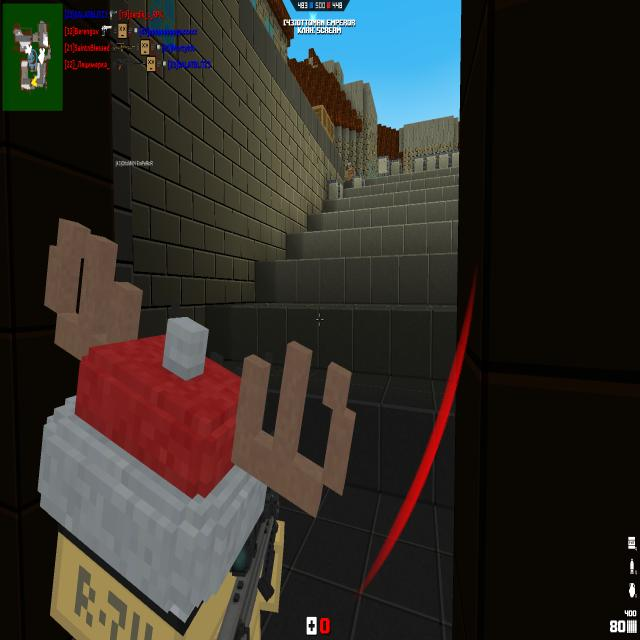player: (34, 226, 284, 633), (346, 162, 354, 182)
